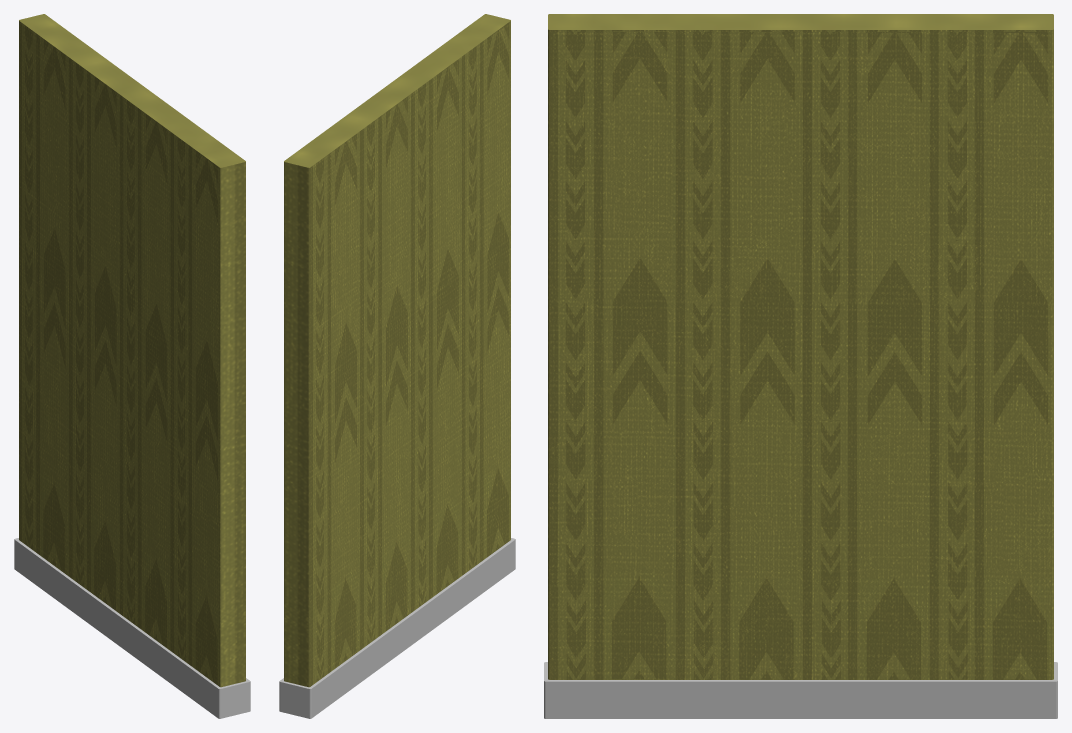
File: L0-Wall.fbx
3 views of the same model, side by side, from view 1: azimuth 30°, elevation 25°; view 2: azimuth 150°, elevation 25°; view 3: azimuth 270°, elevation 25° (orthographic). The views are drawn at different scales.
Visible parts, largest first — view 1: wall-backroom_0; view 2: wall-backroom_0; view 3: wall-backroom_0.
Part boxes in pixels (left/top/right/bottom): wall-backroom_0: left=14, top=14, right=250, bottom=718; wall-backroom_0: left=279, top=14, right=515, bottom=718; wall-backroom_0: left=544, top=14, right=1057, bottom=718.
Bounding box in the file's own units: 18.25 × 300 × 203.
